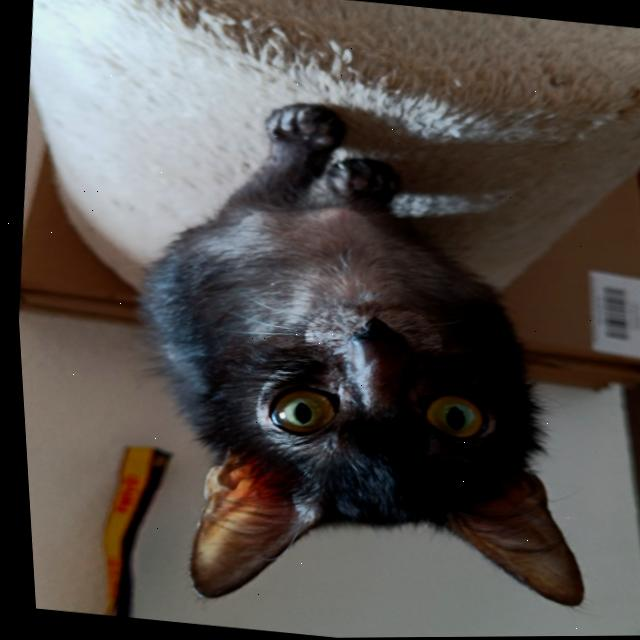Lykoi: (88, 80, 631, 640)
